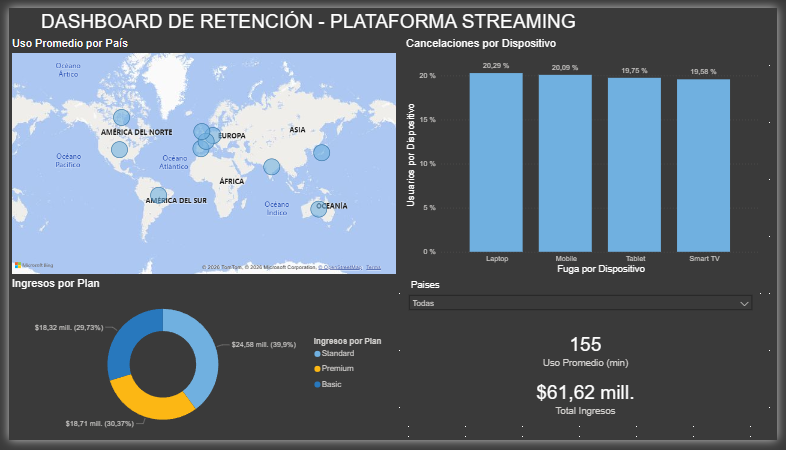

The dashboard page shown, as its layout file describes it:
{"tool":"powerbi","page":{"name":"Página 1","canvas":[1280,720],"ordinal":0},"visuals":[{"type":"map","title":"Uso Promedio por País","fields":{"Category":["bi_engagement_pais.country"],"Size":["Avg(bi_engagement_pais.avg_watch_time_minutes)"]},"box":[0,48,650,400],"z":0},{"type":"clusteredColumnChart","title":"Cancelaciones por Dispositivo","fields":{"Category":["bi_churn_dispositivo.primary_device"],"Y":["bi_churn_dispositivo.% Churn"]},"box":[656,48,600,400],"z":1000},{"type":"donutChart","title":"Ingresos por Plan","fields":{"Category":["bi_rentabilidad_plan.subscription_type"],"Y":["Sum(bi_rentabilidad_plan.monthly_fee)"]},"box":[0,448,640,270],"z":2000},{"type":"card","fields":{"Values":["Sum(bi_rentabilidad_plan.monthly_fee)"]},"box":[656,608,608,80],"z":3000},{"type":"card","fields":{"Values":["Avg(bi_engagement_pais.avg_watch_time_minutes)"]},"box":[656,528,608,80],"z":4000},{"type":"textbox","box":[48,0,1200,48],"z":5000},{"type":"slicer","fields":{"Values":["bi_engagement_pais.country"]},"box":[656,448,592,80],"z":5001}]}

Visuals, with their boxes in screenshot pixels (x1, y1, x2, y2), scaled from the page's 1280x720 canvas onto the 786x450 screenshot:
"Uso Promedio por País" map: (left=0, top=30, right=399, bottom=280)
"Cancelaciones por Dispositivo" clusteredColumnChart: (left=403, top=30, right=771, bottom=280)
"Ingresos por Plan" donutChart: (left=0, top=280, right=393, bottom=449)
card - Sum(bi_rentabilidad_plan.monthly_fee): (left=403, top=380, right=776, bottom=430)
card - Avg(bi_engagement_pais.avg_watch_time_minutes): (left=403, top=330, right=776, bottom=380)
textbox: (left=29, top=0, right=766, bottom=30)
slicer - bi_engagement_pais.country: (left=403, top=280, right=766, bottom=330)
